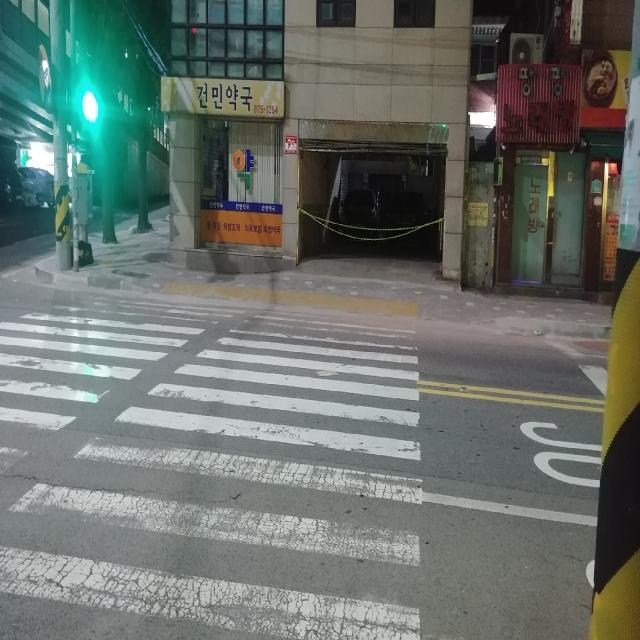초록불: (80, 69, 100, 133)
횡단보도: (0, 295, 423, 640)
